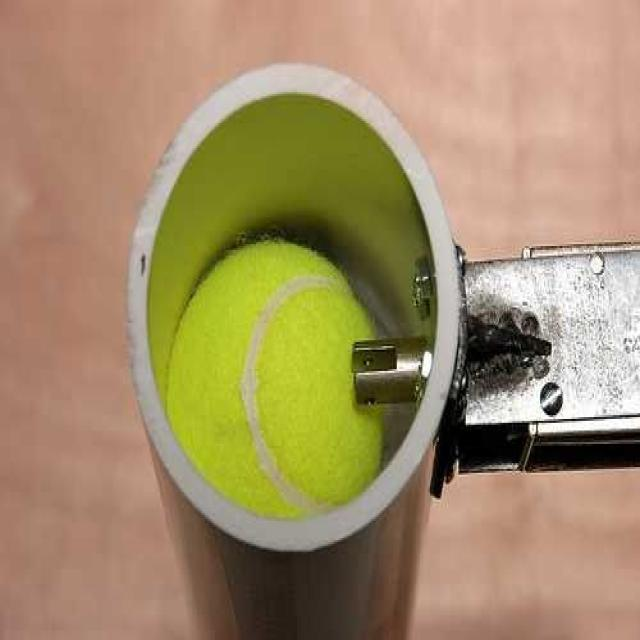Tennis_Ball: (160, 240, 386, 504)
